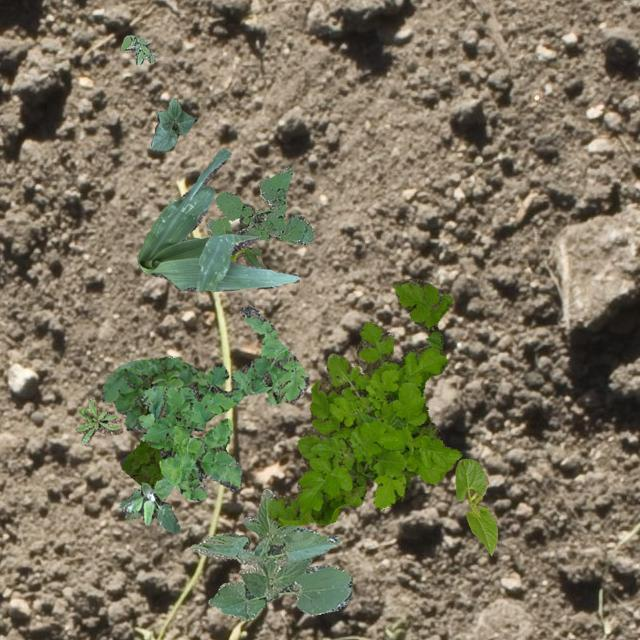crop: (136, 147, 298, 290), (190, 488, 352, 620), (454, 458, 496, 554), (186, 230, 265, 268), (150, 98, 196, 150)
weed: (266, 278, 460, 526), (136, 304, 308, 501), (100, 356, 222, 430), (205, 164, 312, 244), (120, 403, 164, 488), (116, 477, 180, 532), (75, 398, 122, 444), (120, 34, 154, 64)
